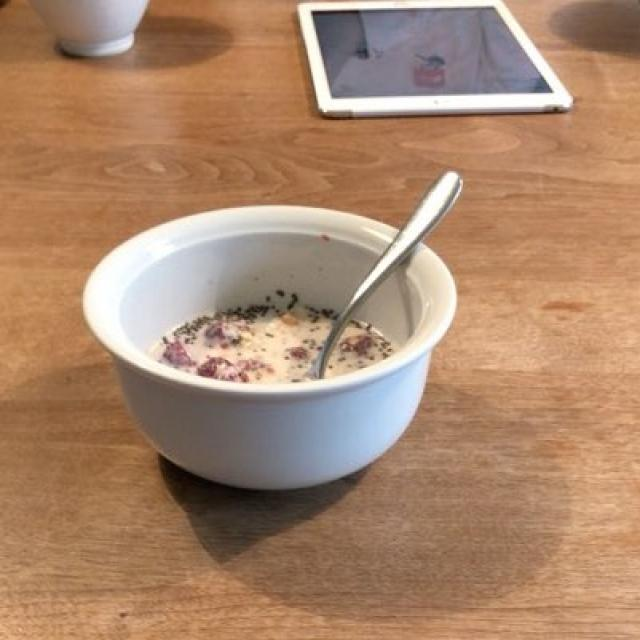birchermuesli-prepared-no-sugar-added: (168, 297, 390, 382)
